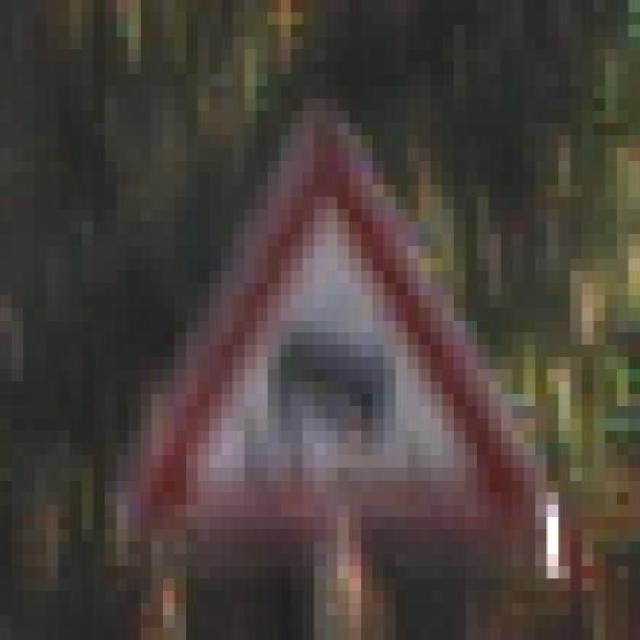Slippery Road Ahead: (93, 98, 547, 530)
